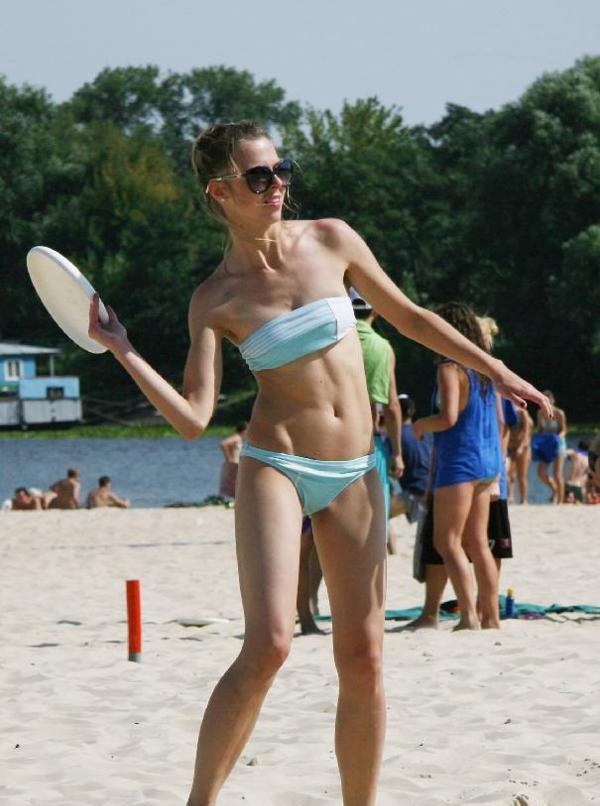person: (89, 122, 551, 806)
